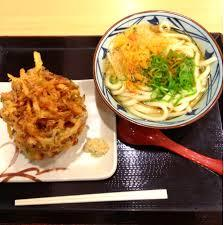bukkake: (98, 11, 221, 121)
kakiage: (2, 56, 88, 153)
